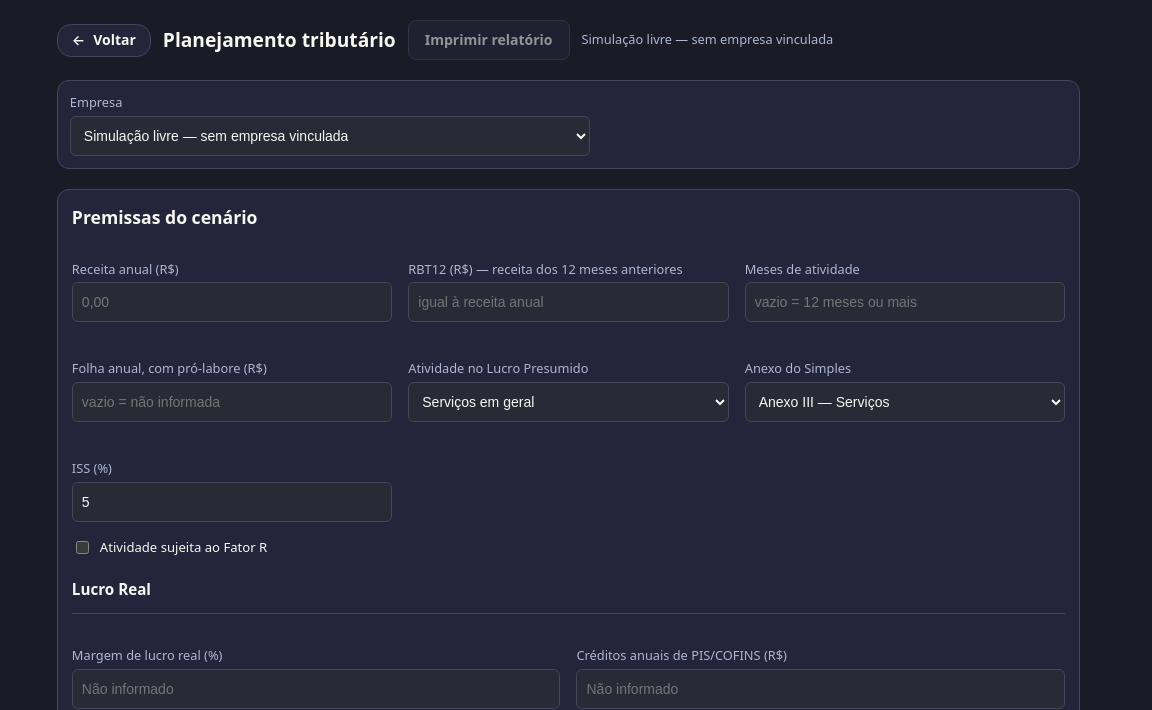
Test: ⚠ o resto do formulário também não atravessa › ⚠ e a limpeza NÃO apaga o que o prefill acabou de escrever — a ordem dos efeitos é o conserto
Select "ALFA SERVICOS LTDA — 11111111000111" in the dropdown labelled "Empresa". click: (330, 136)
box: [70, 116, 590, 156]
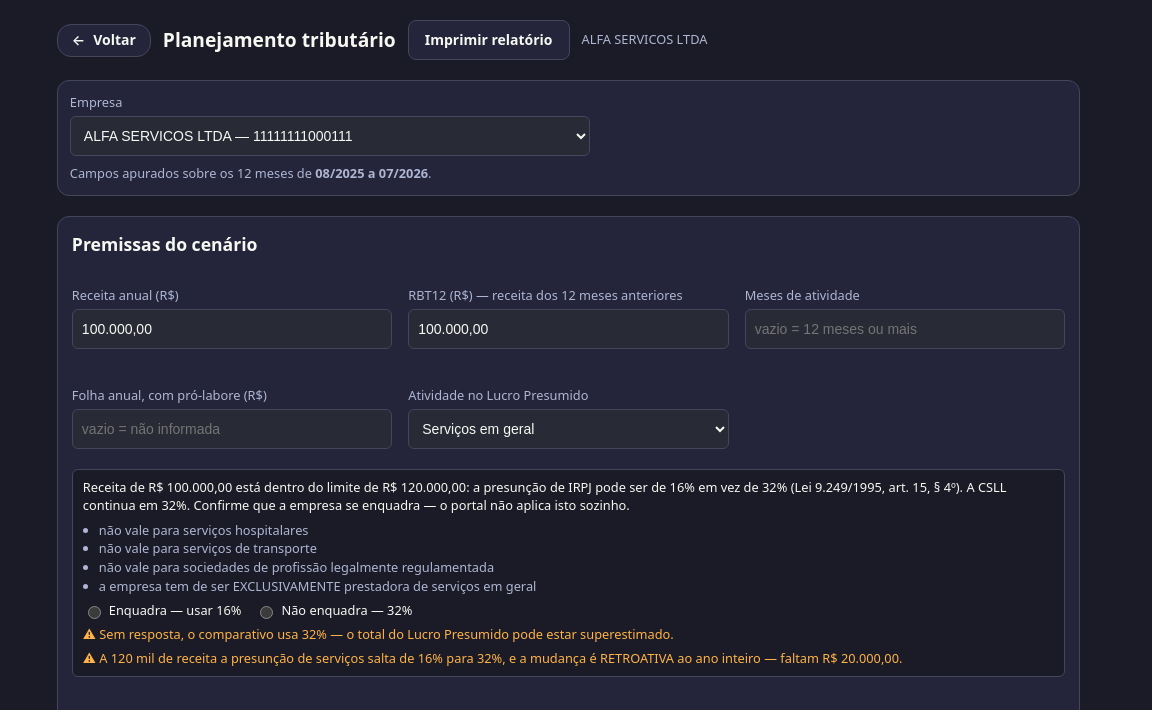
Check: the field labelled "Receita anual (R$)" holds "100.000,00", box [72, 309, 392, 349]
Check: the field labelled "Receita anual (R$)" is not empty, box [72, 309, 392, 349]
